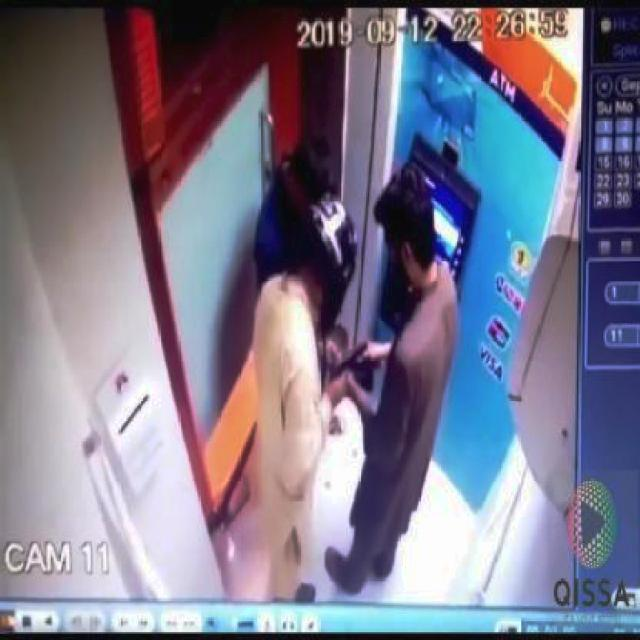Gun: (332, 333, 377, 389)
